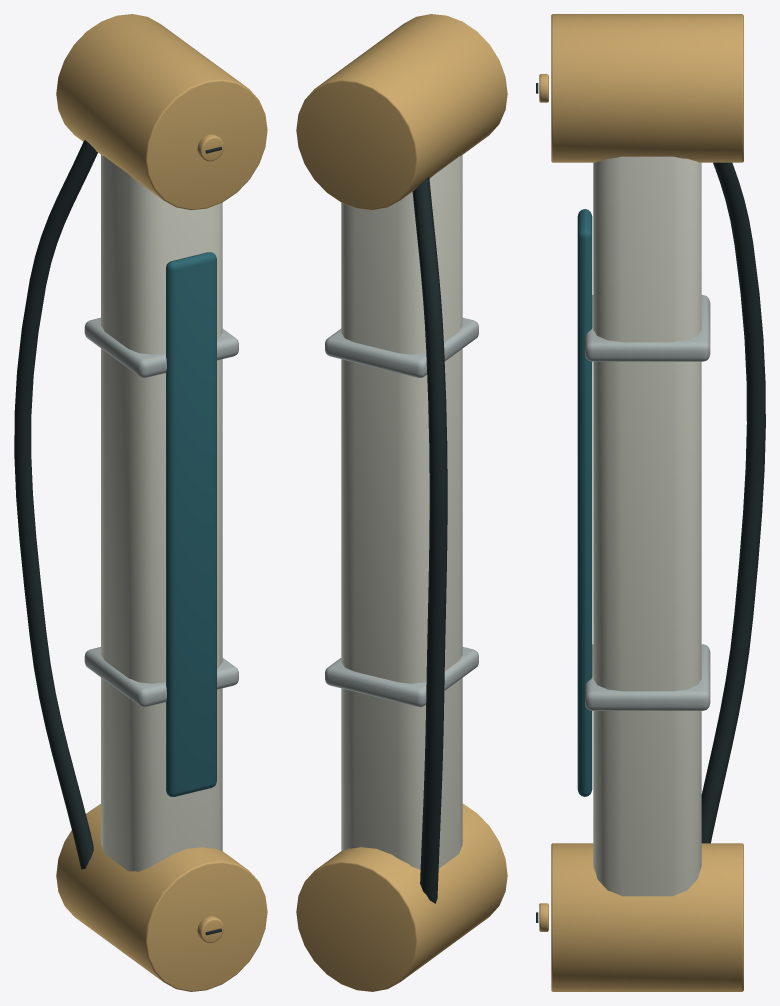
The model's file is arm_link.glb.
The picture shows the model from 3 angles, left to right: view 1: azimuth 30°, elevation 25°; view 2: azimuth 150°, elevation 25°; view 3: azimuth 270°, elevation 25°; orthographic projection. The views are drawn at different scales.
Visible parts, largest first — view 1: Load bearing link, Teal inset, Joint bearing.001, Joint bearing, Hydraulic hose, Link retaining strap, Link retaining strap.001; view 2: Load bearing link, Joint bearing.001, Joint bearing, Hydraulic hose, Link retaining strap, Link retaining strap.001; view 3: Load bearing link, Joint bearing.001, Joint bearing, Hydraulic hose, Teal inset, Link retaining strap.001, Link retaining strap.
Part boxes in pixels (box(x1,y1,x2,y2)): Load bearing link: box(101, 155, 222, 871); Teal inset: box(166, 252, 216, 796); Joint bearing.001: box(56, 14, 267, 210); Joint bearing: box(56, 804, 267, 991); Hydraulic hose: box(14, 140, 97, 869); Link retaining strap: box(84, 647, 238, 706); Link retaining strap.001: box(84, 317, 238, 377); Load bearing link: box(341, 155, 462, 869); Joint bearing.001: box(296, 14, 507, 210); Joint bearing: box(296, 804, 507, 991); Hydraulic hose: box(412, 177, 447, 903); Link retaining strap: box(325, 647, 478, 706); Link retaining strap.001: box(325, 318, 478, 377); Load bearing link: box(593, 156, 701, 896); Joint bearing.001: box(551, 14, 743, 162); Joint bearing: box(551, 843, 743, 991); Hydraulic hose: box(701, 162, 765, 843); Teal inset: box(577, 209, 592, 796); Link retaining strap.001: box(585, 295, 710, 361); Link retaining strap: box(585, 644, 710, 710).
Bounding box in the file's own units: 0.0796 × 0.442 × 0.0955.
